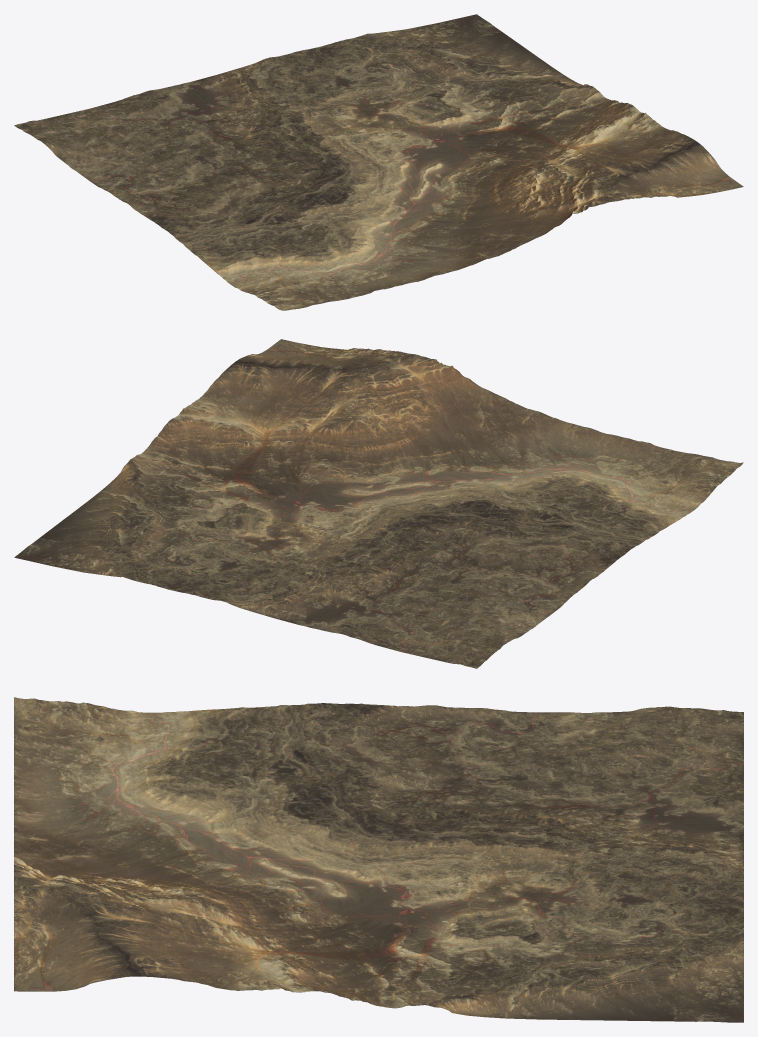
The model's file is 2terrain-1k-opt.glb.
The picture shows the model from 3 angles, top to bottom: view 1: azimuth 30°, elevation 25°; view 2: azimuth 150°, elevation 25°; view 3: azimuth 270°, elevation 25°; orthographic projection. The views are drawn at different scales.
Visible parts, largest first — view 1: Object_2; view 2: Object_2; view 3: Object_2.
Boxes of the visible parts, x1=… form: Object_2: x1=14, y1=14, x2=743, y2=310; Object_2: x1=14, y1=339, x2=743, y2=668; Object_2: x1=14, y1=697, x2=743, y2=1022.
Bounding box in the file's own units: 8000 × 668 × 8000.
1 material, 1 textured.
